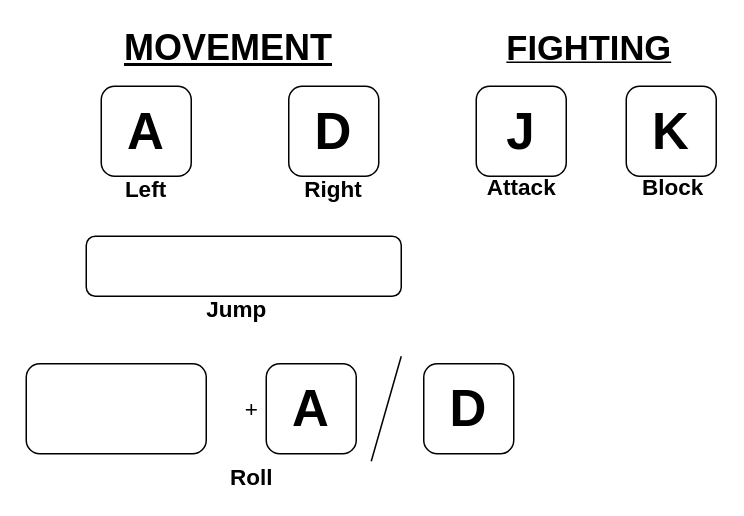
Some shapes in this 744 by 516 pixel diagram are drawn without their labels. The centre of each missing label's shape, as x and y in pixels:
SHIFT: point (115, 408)
SPACE: point (243, 265)
